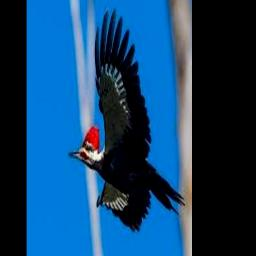Woodpecker: (69, 7, 186, 231)
